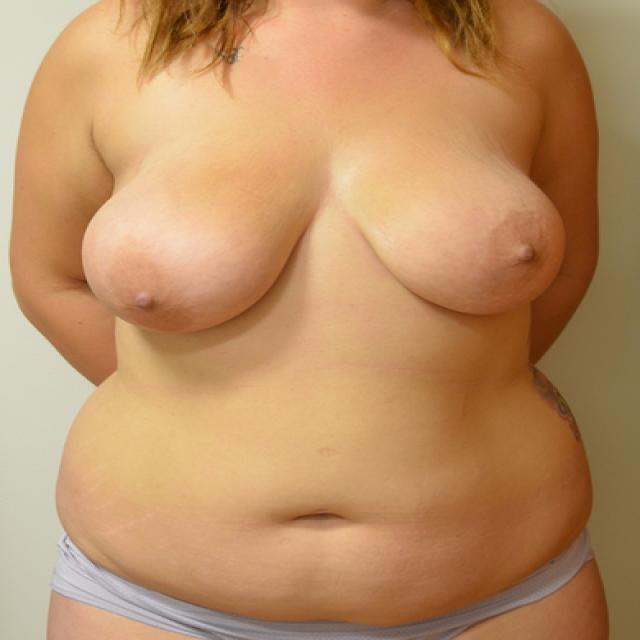Seno ileso: (76, 130, 329, 346), (334, 131, 571, 330)
